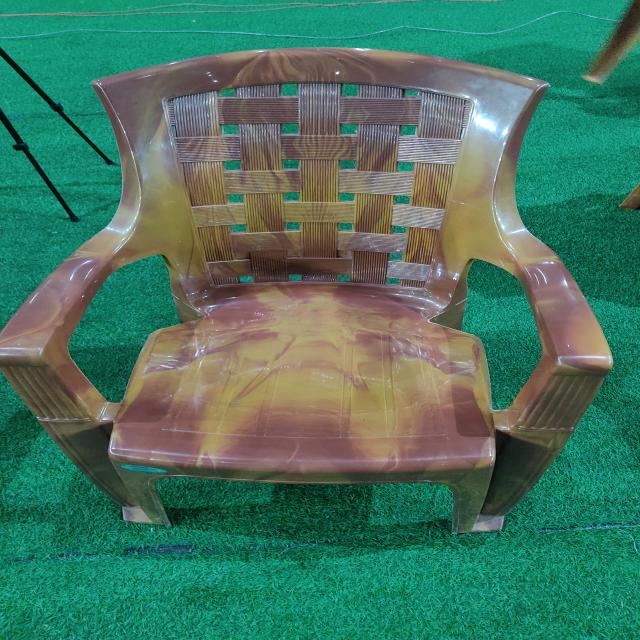Chair: (1, 46, 614, 534)
